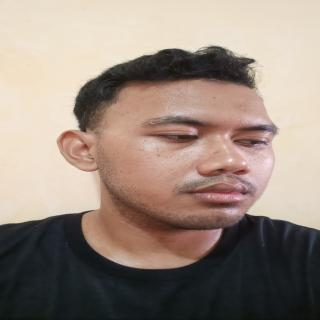Sedih: (88, 75, 282, 234)
